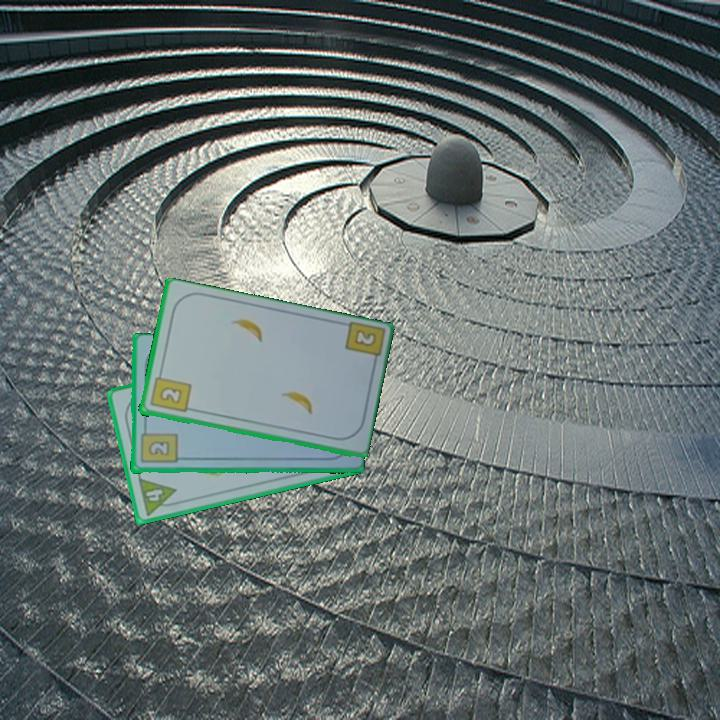2b: (341, 319, 385, 370), (147, 368, 193, 416), (137, 424, 179, 466)
4p: (135, 474, 181, 518)
